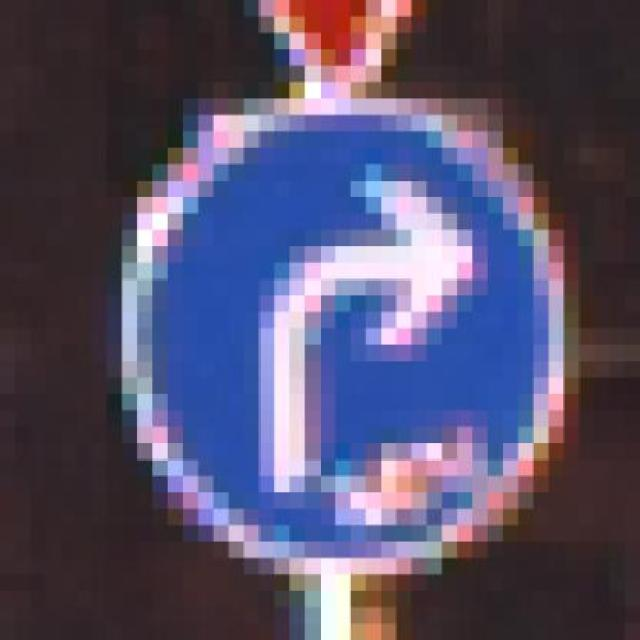Turn right ahead: (91, 66, 594, 574)
